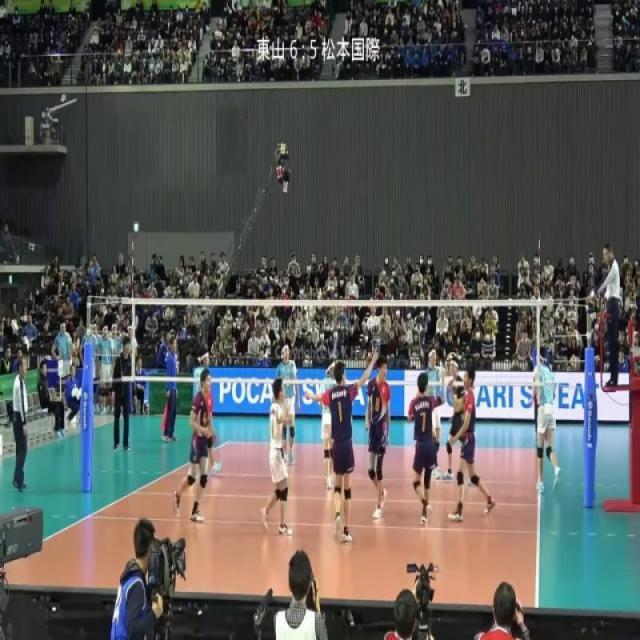volleyball: (472, 303, 482, 318)
